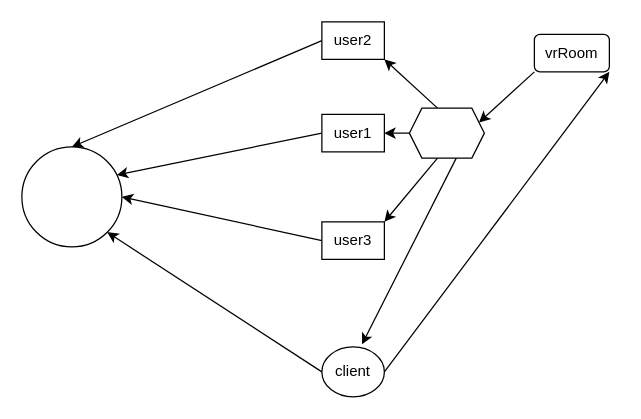
The diagram is 641 pixels wide and 419 high, and some of its shapes have lost their labels. Here are the shapes that lost their labels. From the top down, the box of each, then its label:
(408, 107, 484, 158): bot
(21, 146, 122, 247): discordRoom
